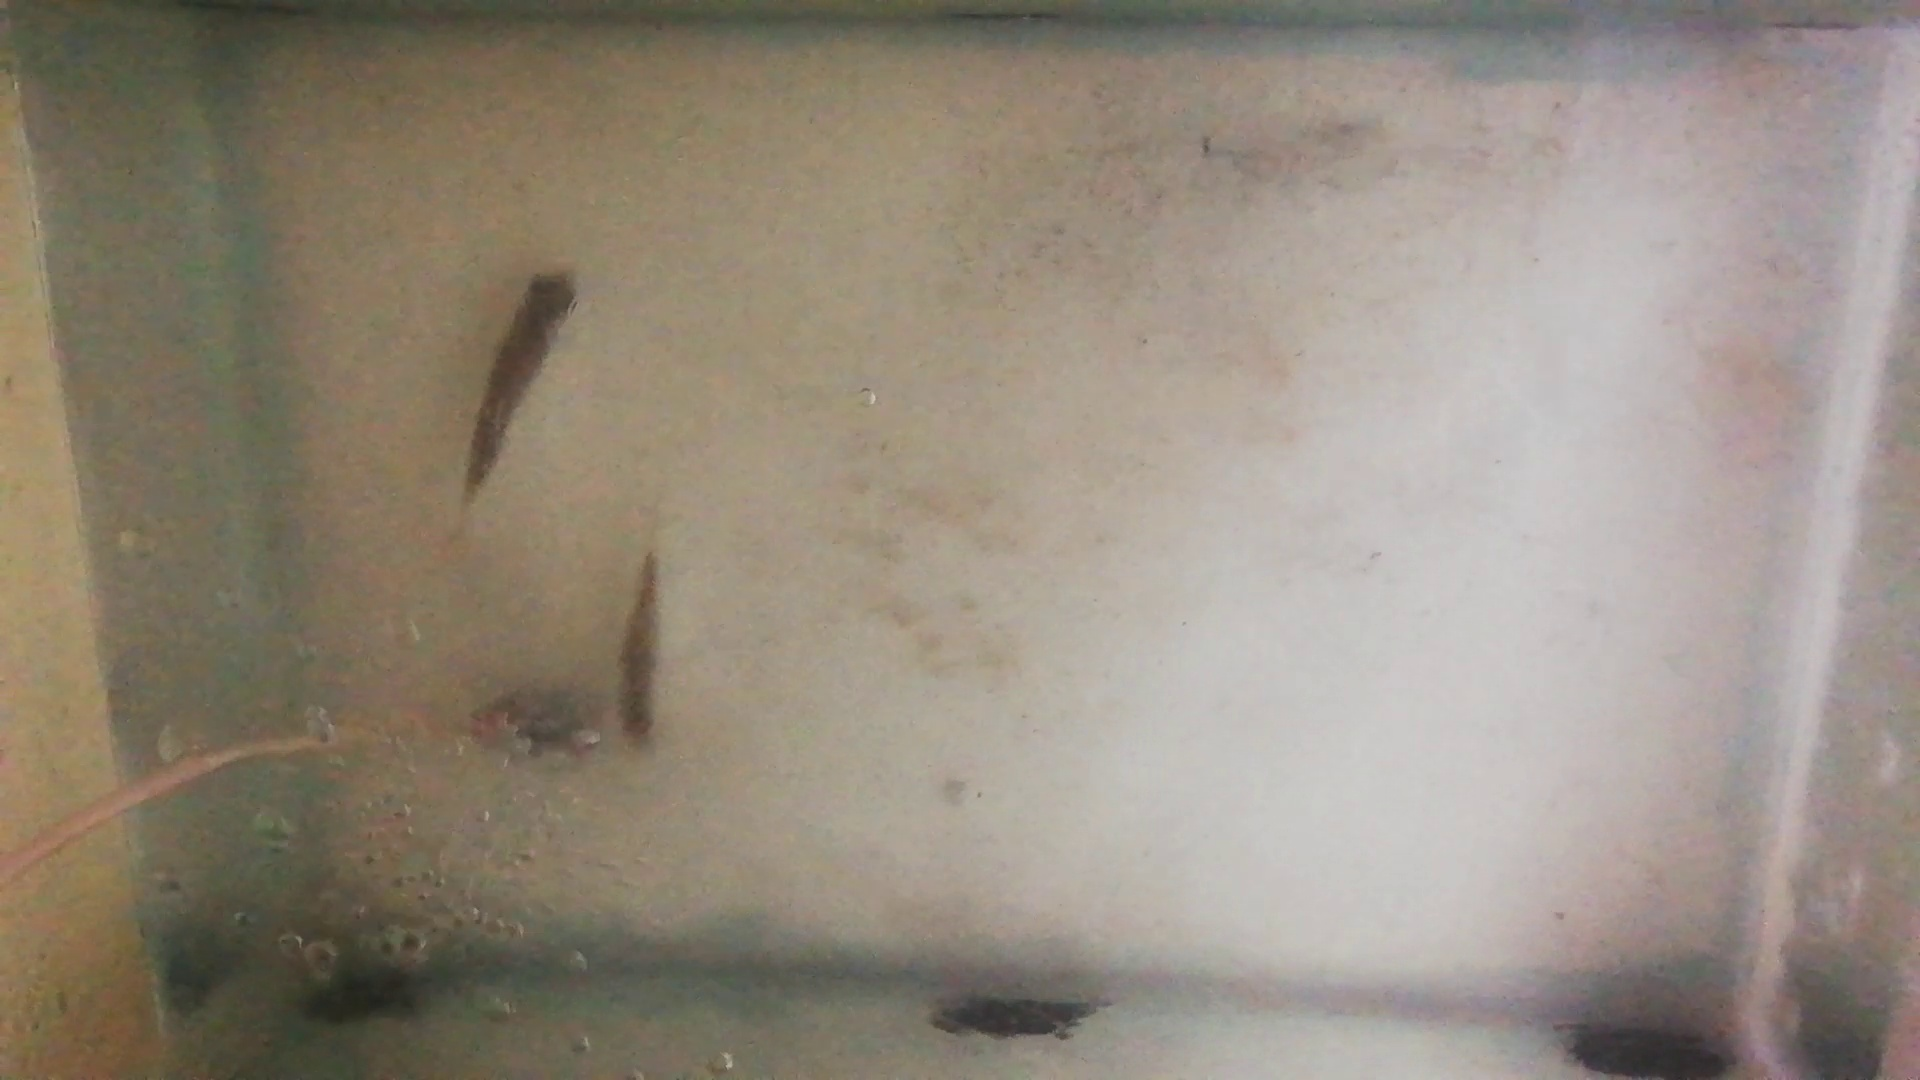fish: (463, 264, 575, 495), (615, 553, 661, 753)
